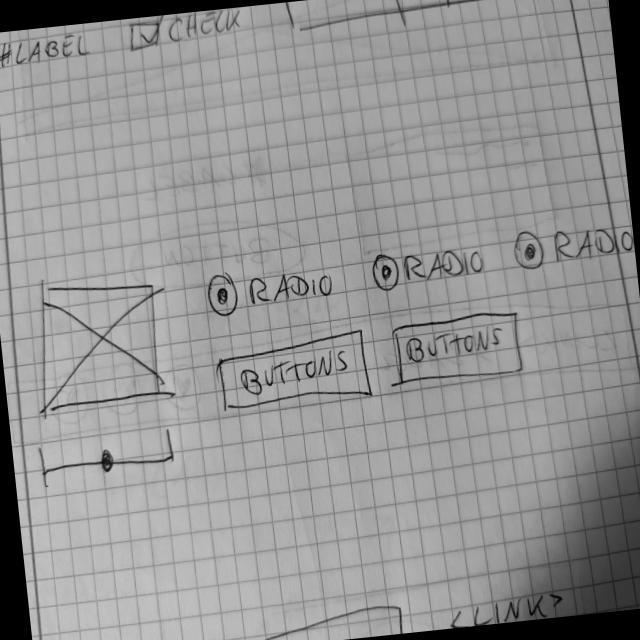button: (213, 327, 376, 423), (388, 308, 527, 390)
checkbox: (126, 8, 248, 56)
image: (25, 272, 170, 422)
label: (1, 29, 96, 71)
link: (445, 587, 569, 630)
radio: (204, 262, 340, 322), (509, 215, 637, 274), (370, 240, 488, 296)
slider: (38, 428, 181, 492)
